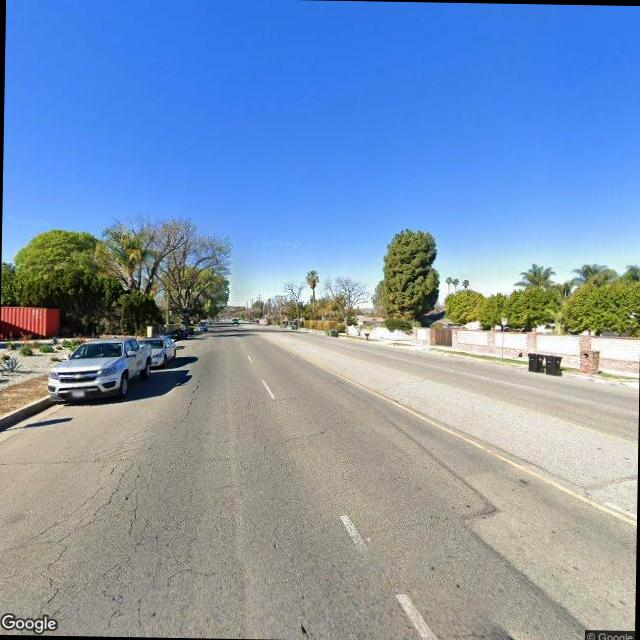crack: (0, 415, 200, 632), (175, 372, 203, 424), (279, 424, 331, 444)
